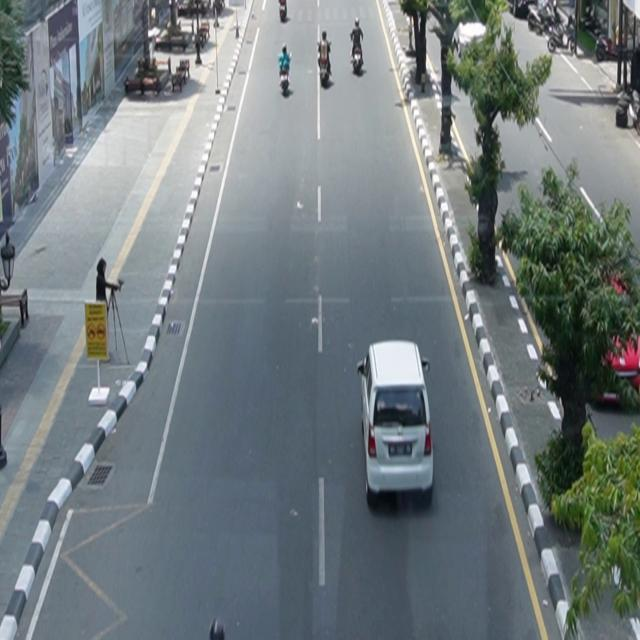car: (358, 340, 435, 507)
